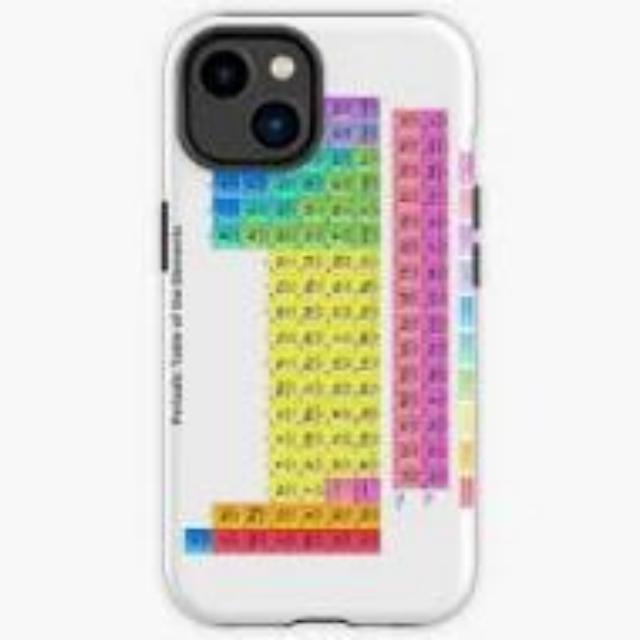phone: (133, 0, 496, 638)
